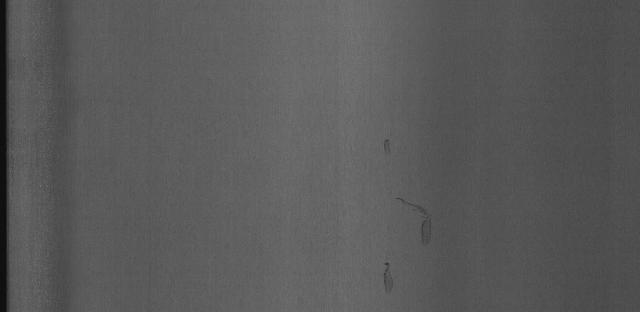water_spot: (361, 132, 449, 297)
